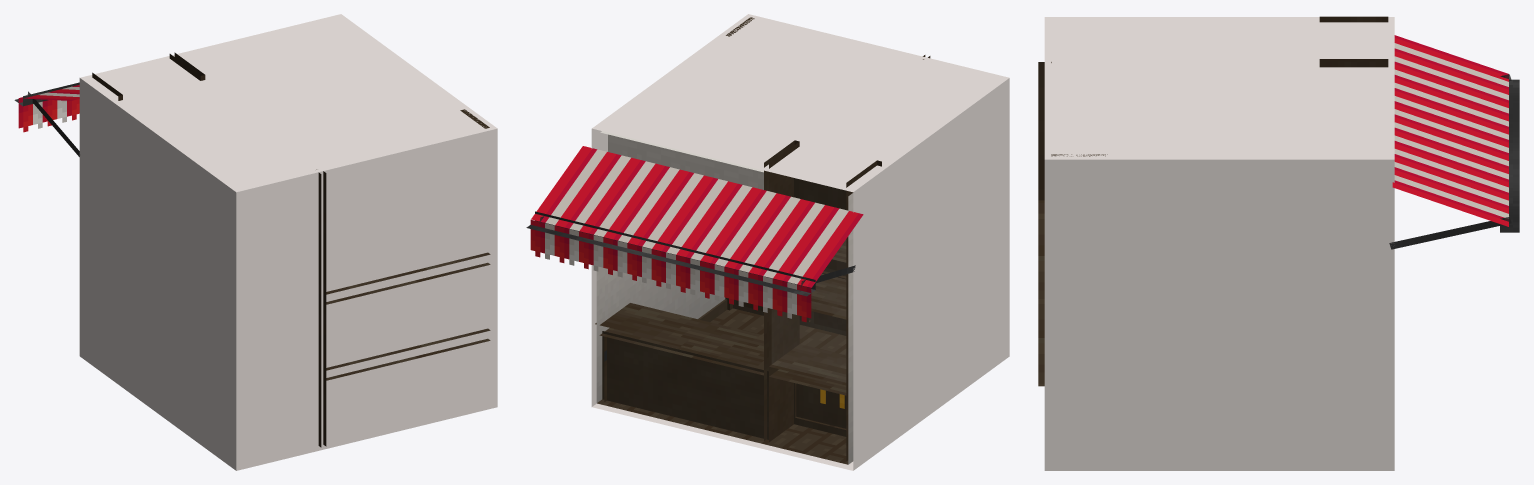
Rendered from stall.gltf.
The picture shows the model from 3 angles, left to right: view 1: azimuth 30°, elevation 25°; view 2: azimuth 150°, elevation 25°; view 3: azimuth 270°, elevation 25°; orthographic projection. The views are drawn at different scales.
Visible parts, largest first — view 1: stall; view 2: stall; view 3: stall.
Part boxes in pixels (x1,y1,x2,y2): stall: (14,14,497,470); stall: (526,14,1009,470); stall: (1038,16,1519,470).
Bounding box in the file's own units: 3.63 × 3.5 × 4.81.
Materials: 1 (1 with a texture image).
